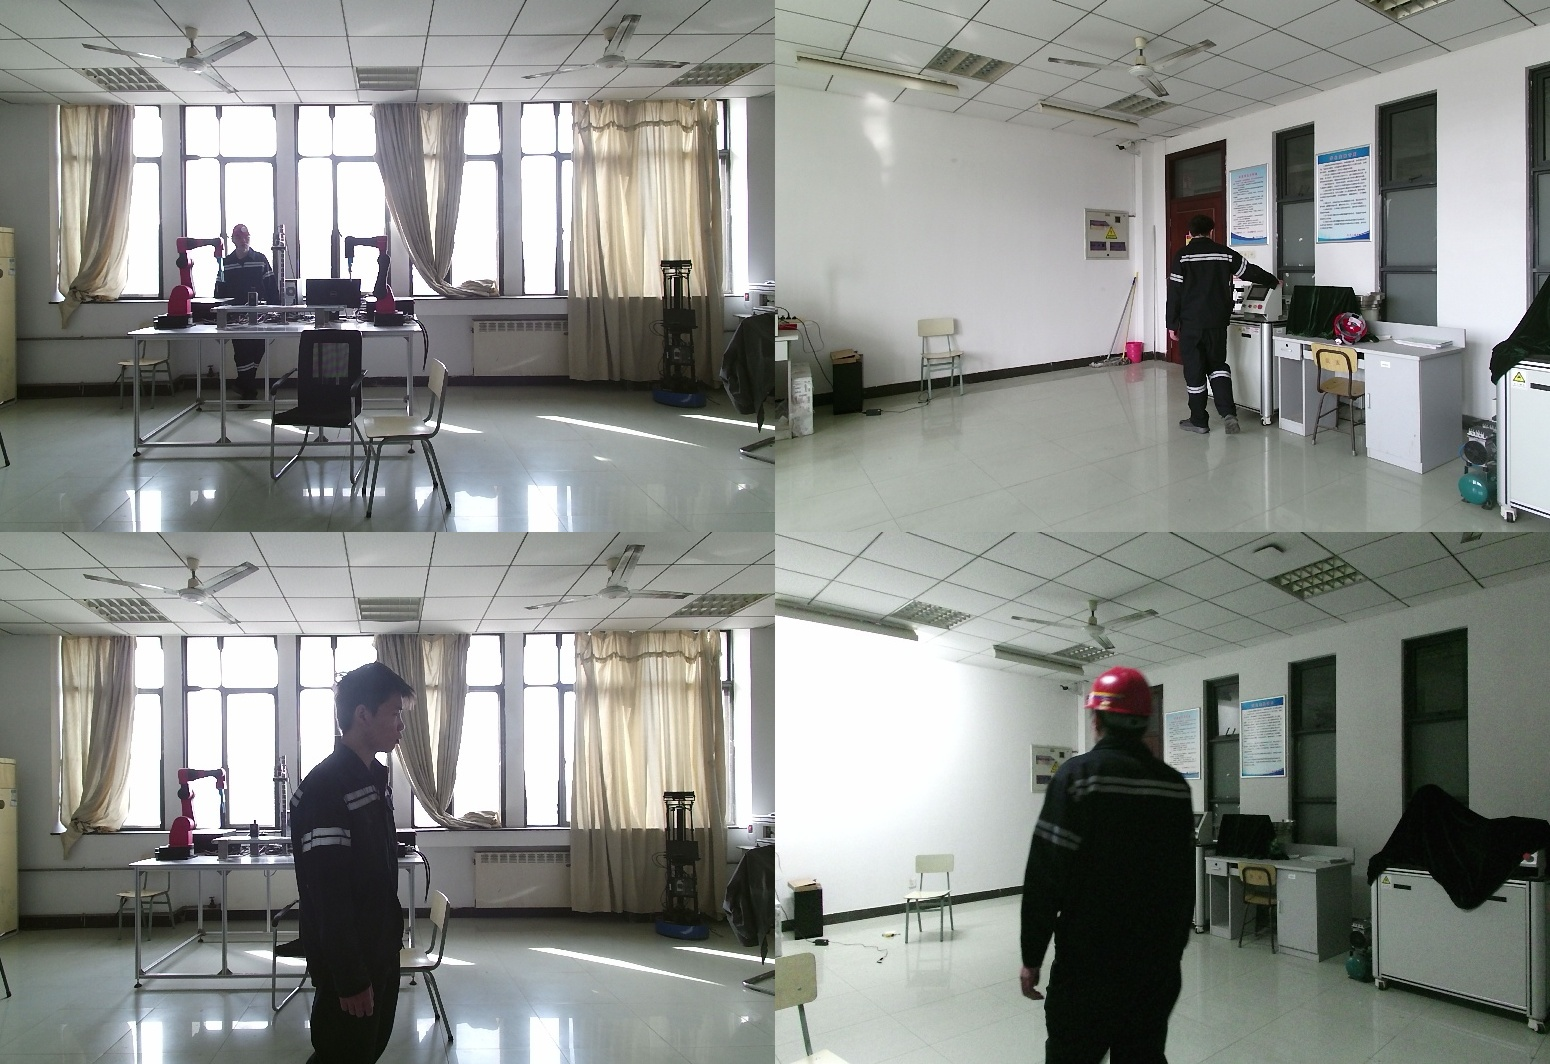person: (1021, 667, 1217, 1064), (295, 663, 429, 1064), (1176, 217, 1282, 435), (213, 224, 279, 410)
